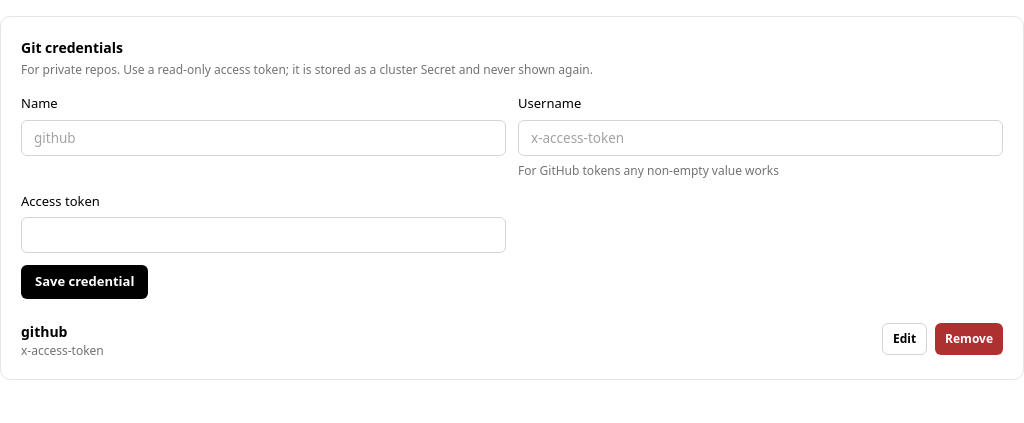
Test: GitCredentialsCard › edits without resending the token when left blank
The width and height of the screenshot is (1024, 423).
Later steps or results of the test are not shown.
Click the button "Edit" at (904, 338), box [882,322,927,354]
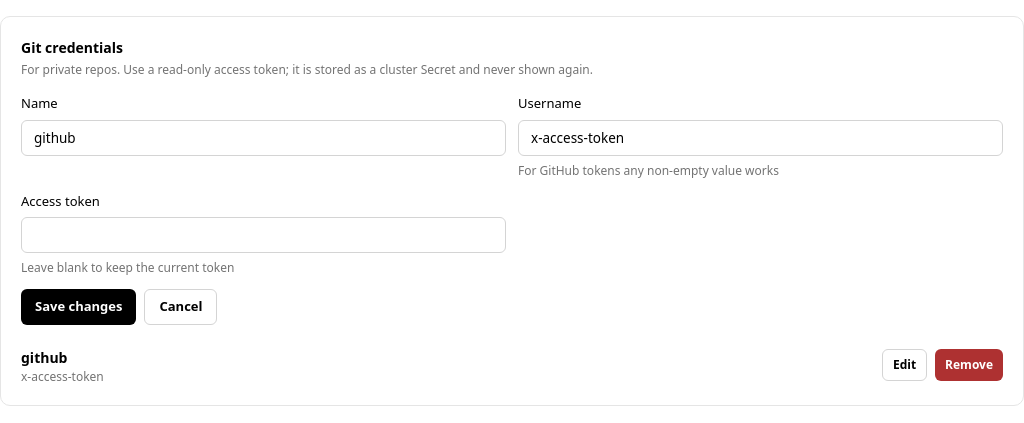
Expected: the field labelled "Name" has attribute readonly, [21,120,506,156]
